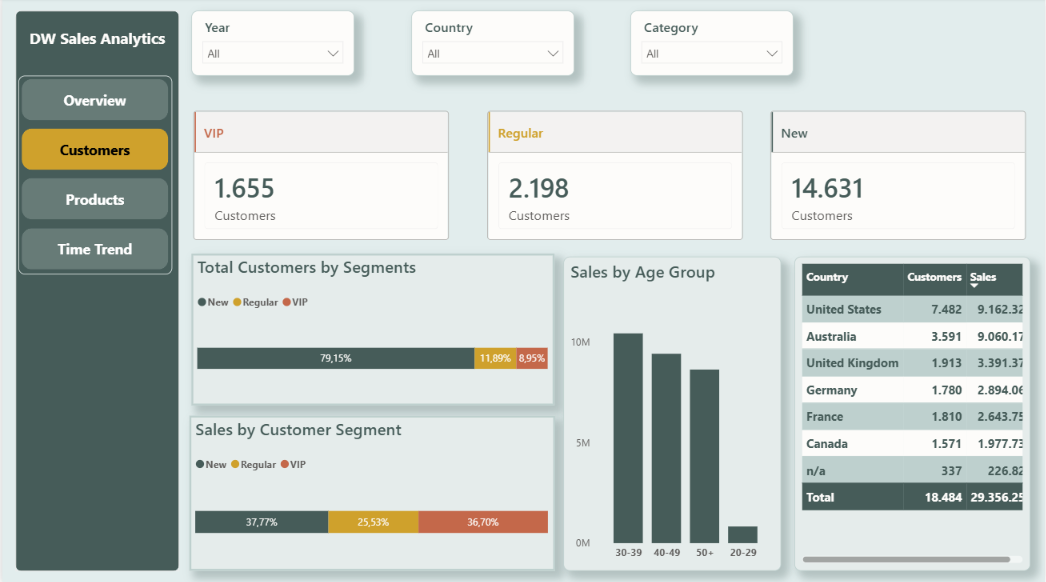

The dashboard page shown, as its layout file describes it:
{"tool":"powerbi","page":{"name":"Customers","canvas":[1280,720],"ordinal":1},"visuals":[{"type":"shape","box":[16,16,201,688],"z":0},{"type":"textbox","box":[28.2,31.9,201,688],"z":1000},{"type":"pageNavigator","box":[19.6,95.7,189,244.2],"z":2000},{"type":"slicer","fields":{"Values":["Calendar.Year"]},"box":[232,16,200,80],"z":3000},{"type":"slicer","fields":{"Values":["dim_customers.country"]},"box":[501.8,16,200,80],"z":4000},{"type":"slicer","fields":{"Values":["dim_products.category"]},"box":[770,16,200,80],"z":5000},{"type":"cardVisual","fields":{"Data":["_01Measures_Overview.Total Customers"],"Rows":["dim_customers.Customer Segment"]},"box":[229.2,113.9,323.8,208.6],"z":6000},{"type":"cardVisual","fields":{"Data":["_01Measures_Overview.Total Customers"],"Rows":["dim_customers.Customer Segment"]},"box":[590.1,113.9,323.8,208.6],"z":7000},{"type":"cardVisual","fields":{"Data":["_01Measures_Overview.Total Customers"],"Rows":["dim_customers.Customer Segment"]},"box":[937.2,113.9,323.8,208.6],"z":8000},{"type":"hundredPercentStackedBarChart","title":"Total Customers by Segments","fields":{"Y":["_01Measures_Overview.Total Customers"],"Series":["dim_customers.Customer Segment"]},"box":[231.9,314.2,446,186.6],"z":9000},{"type":"hundredPercentStackedBarChart","fields":{"Y":["_01Measures_Overview.Total Sales"],"Series":["dim_customers.Customer Segment"]},"box":[229.2,513.2,448.7,190.7],"z":10000},{"type":"clusteredColumnChart","fields":{"Y":["_01Measures_Overview.Total Sales"],"Category":["dim_customers.Age Group"]},"box":[688.9,318.4,267.6,385.6],"z":11000},{"type":"tableEx","fields":{"Values":["dim_customers.country","_01Measures_Overview.Total Customers","_01Measures_Overview.Total Sales"]},"box":[971.5,318.4,289.5,385.6],"z":12000}]}

Visuals, with their boxes in screenshot pixels (x1, y1, x2, y2), scaled from the page's 1280x720 canvas onto the 1046x582 screenshot:
shape: box(13, 13, 177, 569)
textbox: box(23, 26, 187, 581)
pageNavigator: box(16, 77, 170, 275)
slicer - Calendar.Year: box(190, 13, 353, 78)
slicer - dim_customers.country: box(410, 13, 574, 78)
slicer - dim_products.category: box(629, 13, 793, 78)
cardVisual - _01Measures_Overview.Total Customers x dim_customers.Customer Segment: box(187, 92, 452, 261)
cardVisual - _01Measures_Overview.Total Customers x dim_customers.Customer Segment: box(482, 92, 747, 261)
cardVisual - _01Measures_Overview.Total Customers x dim_customers.Customer Segment: box(766, 92, 1030, 261)
"Total Customers by Segments" hundredPercentStackedBarChart: box(190, 254, 554, 405)
hundredPercentStackedBarChart - _01Measures_Overview.Total Sales x dim_customers.Customer Segment: box(187, 415, 554, 569)
clusteredColumnChart - _01Measures_Overview.Total Sales x dim_customers.Age Group: box(563, 257, 782, 569)
tableEx - dim_customers.country x _01Measures_Overview.Total Customers: box(794, 257, 1030, 569)
